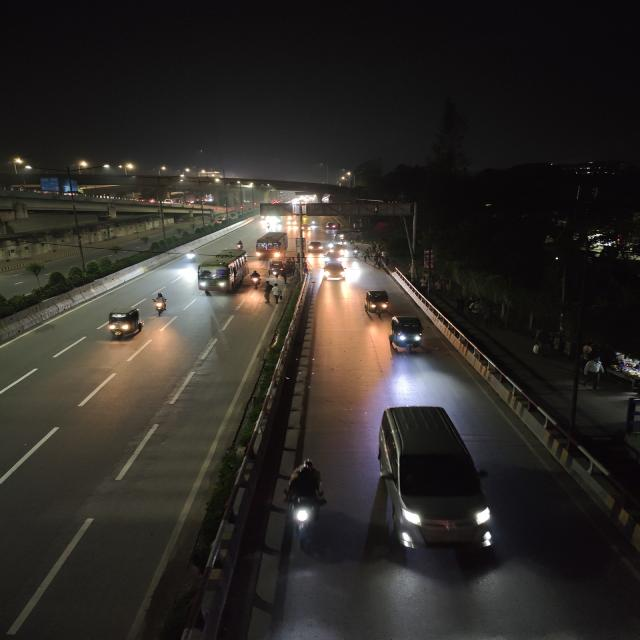bus: (194, 250, 249, 294), (254, 231, 289, 261)
car: (370, 400, 496, 560), (385, 314, 429, 356), (321, 261, 348, 283), (307, 240, 326, 254)
cng: (99, 305, 147, 347), (360, 288, 393, 318), (267, 258, 291, 274)
motorcycle: (278, 458, 329, 548), (149, 290, 171, 318), (182, 248, 200, 264), (249, 270, 262, 288), (233, 239, 246, 251)
pedestrian: (260, 280, 274, 306), (272, 282, 283, 304), (362, 250, 371, 264)
